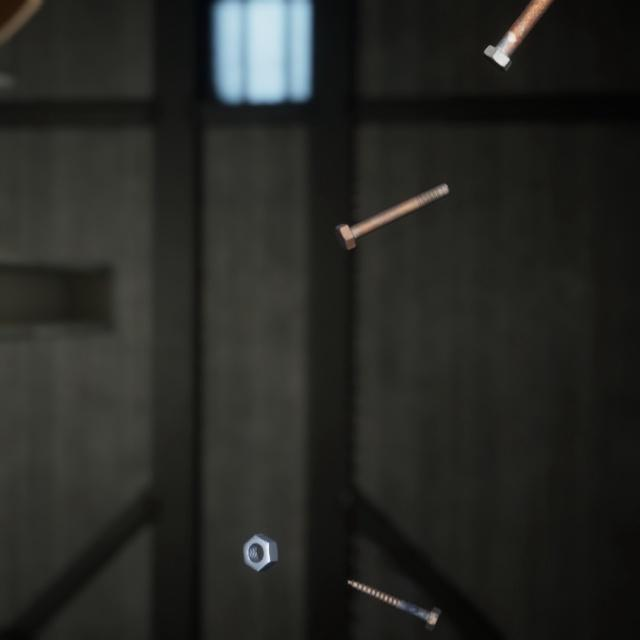bolt: (330, 164, 454, 240), (343, 553, 445, 612), (478, 0, 554, 69), (336, 614, 399, 640)
nut: (238, 506, 282, 553)
